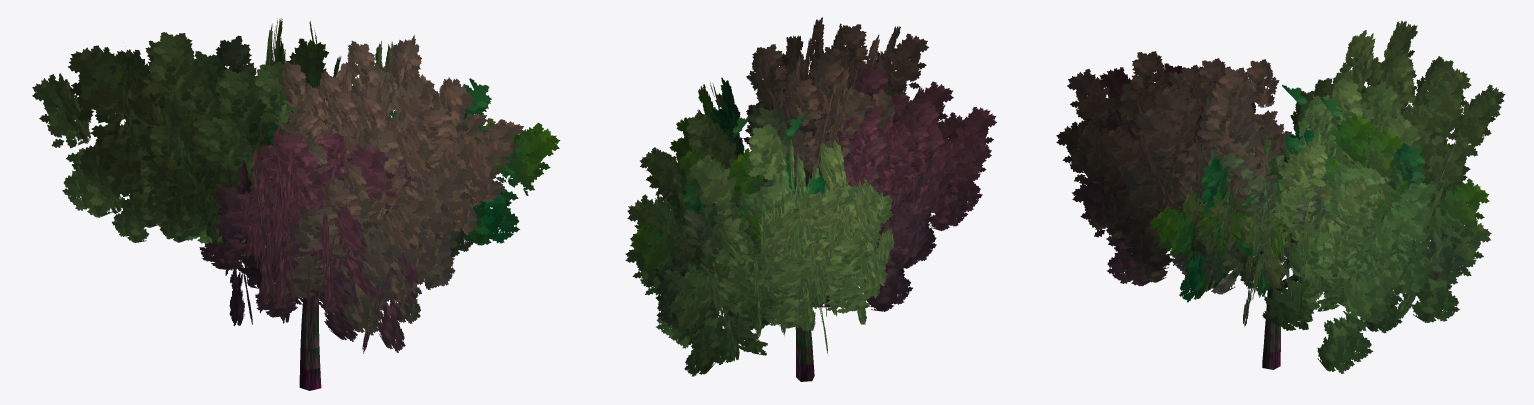
File: nat_oak_b_LOD2.glb
The picture shows the model from 3 angles, left to right: view 1: azimuth 30°, elevation 25°; view 2: azimuth 150°, elevation 25°; view 3: azimuth 270°, elevation 25°; orthographic projection. The views are drawn at different scales.
Visible parts, largest first — view 1: nat_oak_b_LOD2; view 2: nat_oak_b_LOD2; view 3: nat_oak_b_LOD2.
Part boxes in pixels (box(x1,y1,x2,y2)): nat_oak_b_LOD2: box(32, 18, 560, 390); nat_oak_b_LOD2: box(625, 17, 996, 381); nat_oak_b_LOD2: box(1056, 20, 1505, 373).
Size of the model in its own units: 9.04 by 8.17 by 11.19.
Materials: 2 (2 with a texture image).
